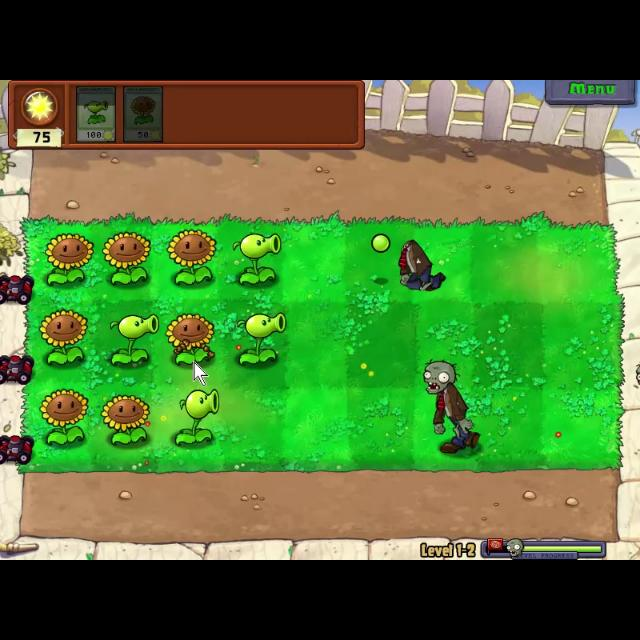Garden: (18, 216, 624, 474)
Menu Button: (544, 80, 638, 106)
Mower: (0, 352, 34, 388), (0, 431, 32, 465), (1, 276, 36, 304)
Peashooter: (77, 84, 117, 144)
Peashooter Seed: (228, 308, 292, 372), (230, 225, 290, 289), (171, 386, 227, 449), (106, 311, 162, 371)
Seed Panel: (5, 80, 369, 150)
Sunflower: (122, 82, 164, 144)
Sunflower Seed: (31, 384, 90, 452), (33, 304, 89, 368), (164, 226, 218, 288), (166, 311, 218, 373), (41, 230, 95, 288), (98, 390, 152, 448), (103, 232, 153, 286)
Zombie: (420, 354, 484, 456)
